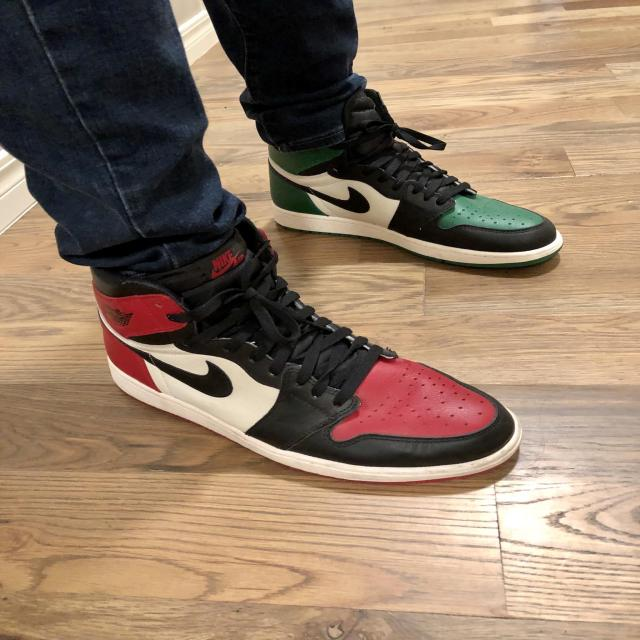shoe: (89, 231, 526, 489), (253, 86, 565, 272)
